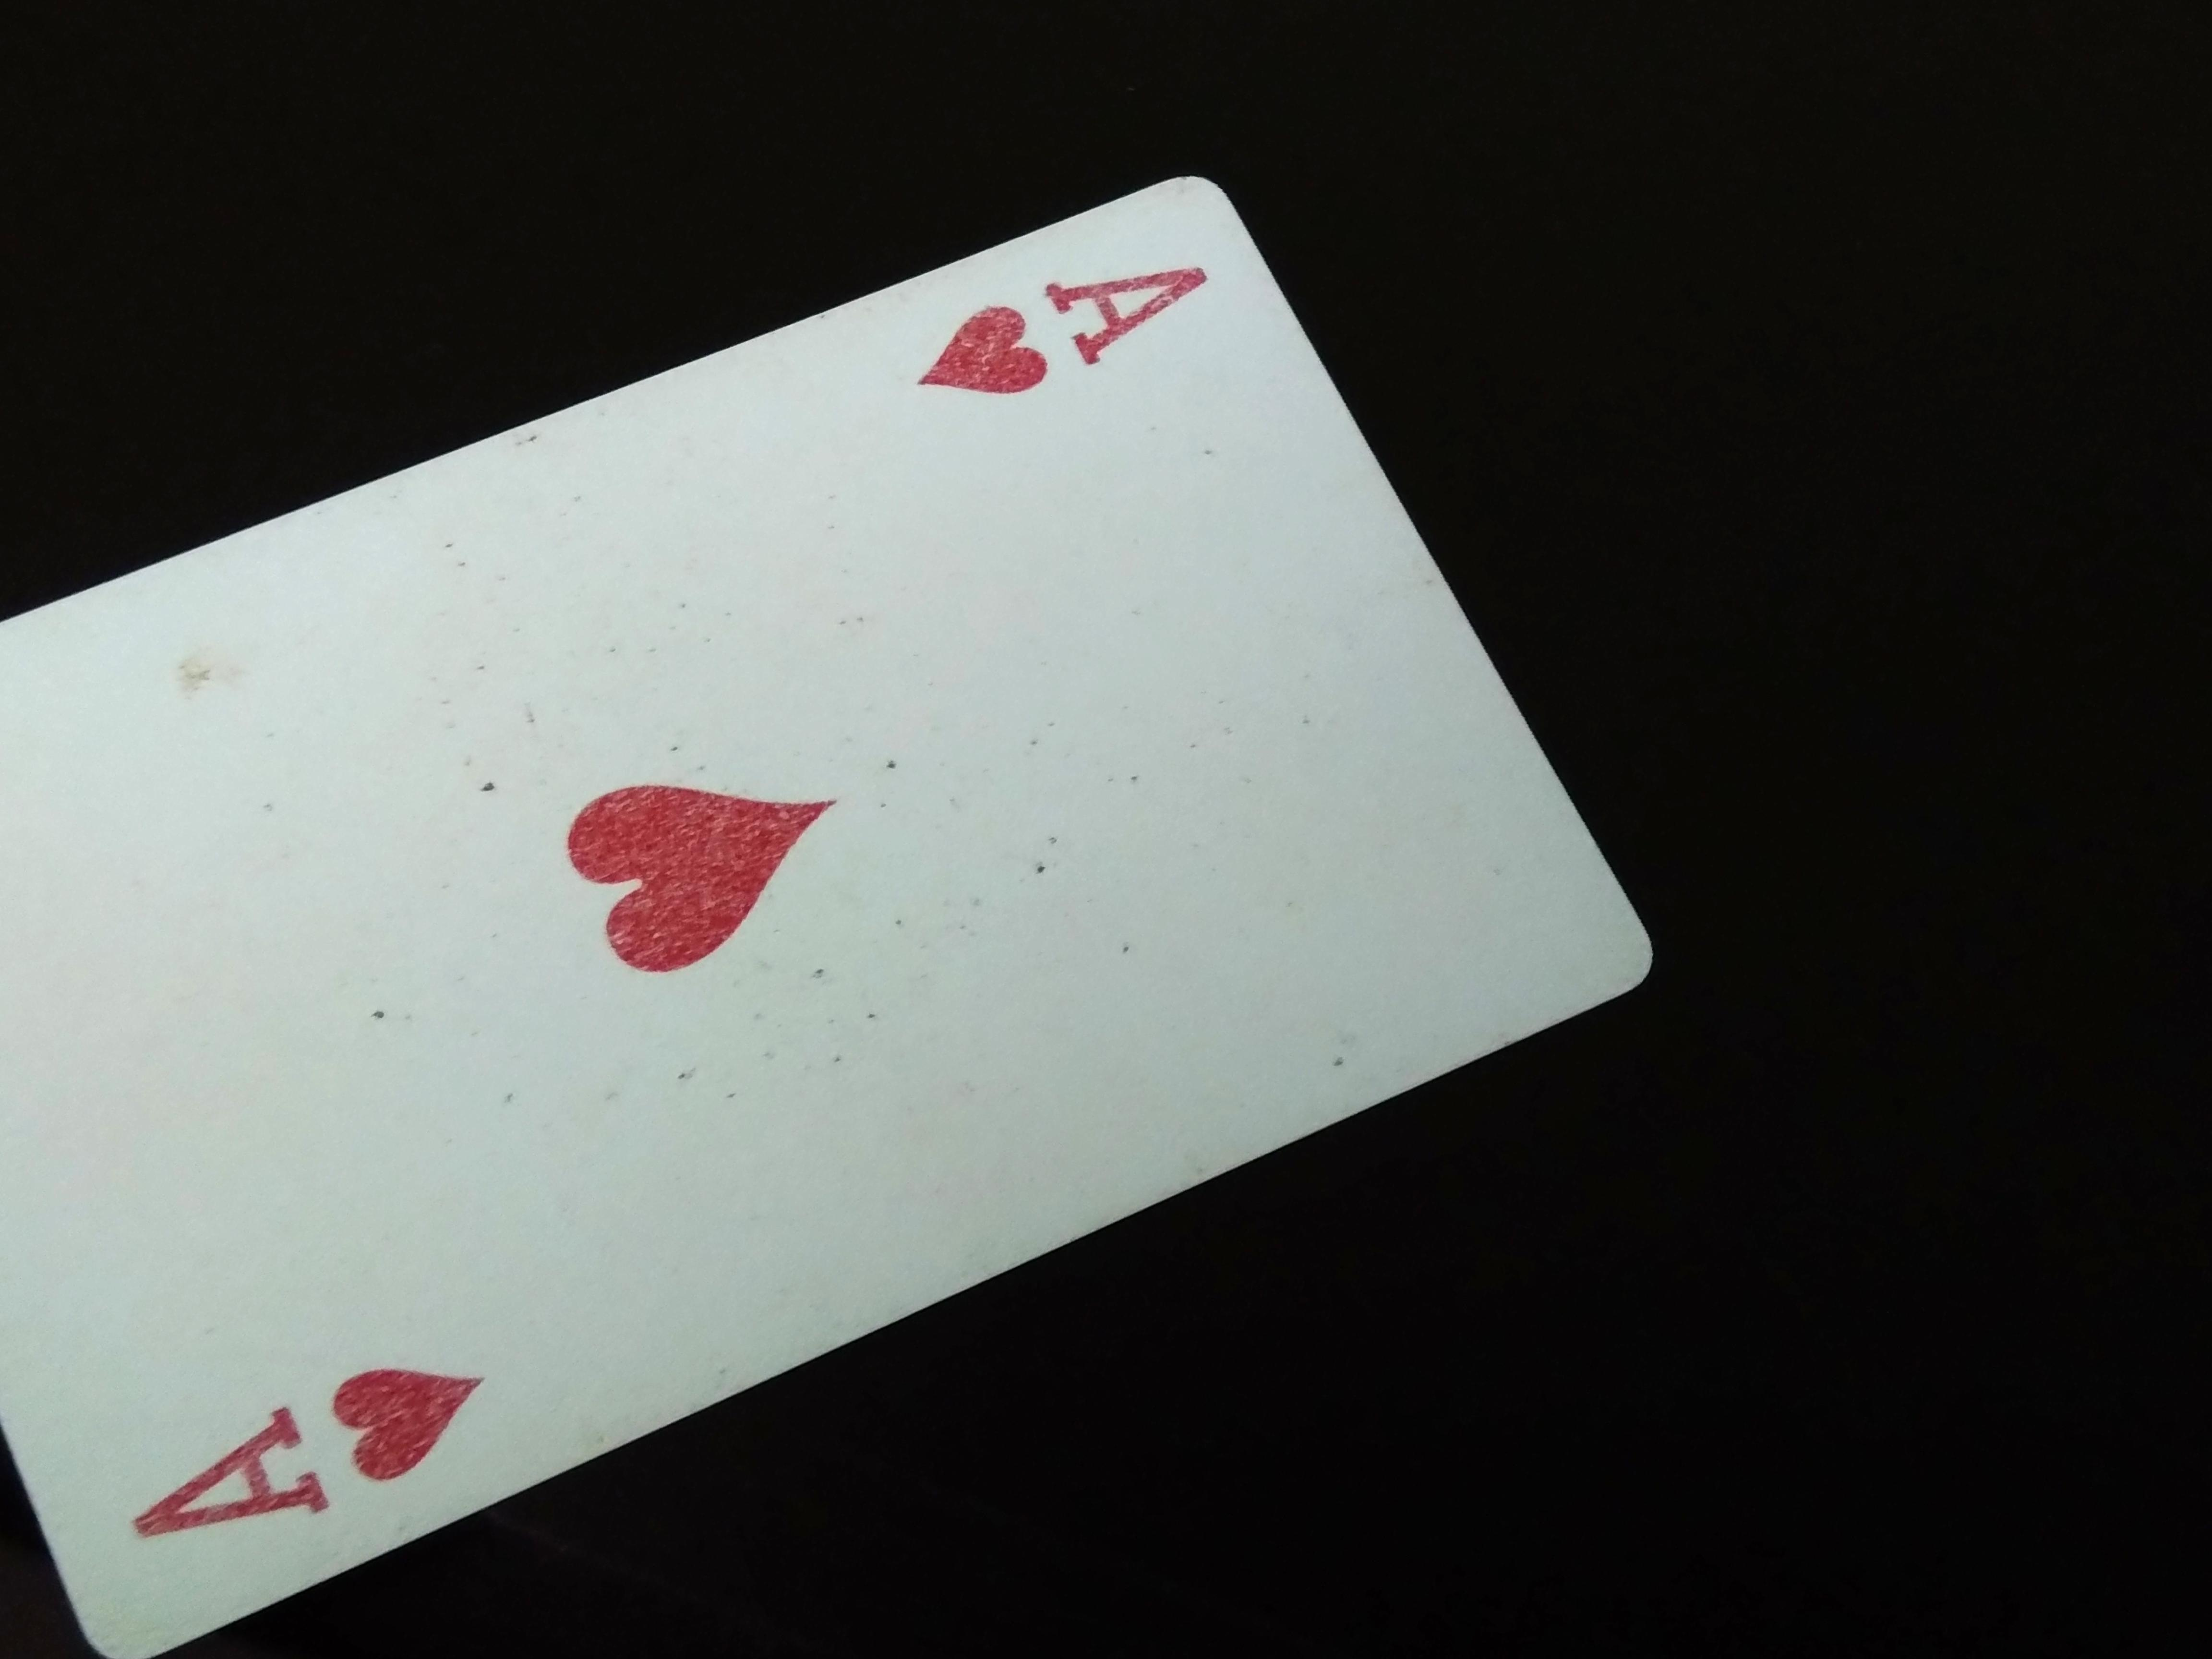AH: (895, 258, 1228, 420)
